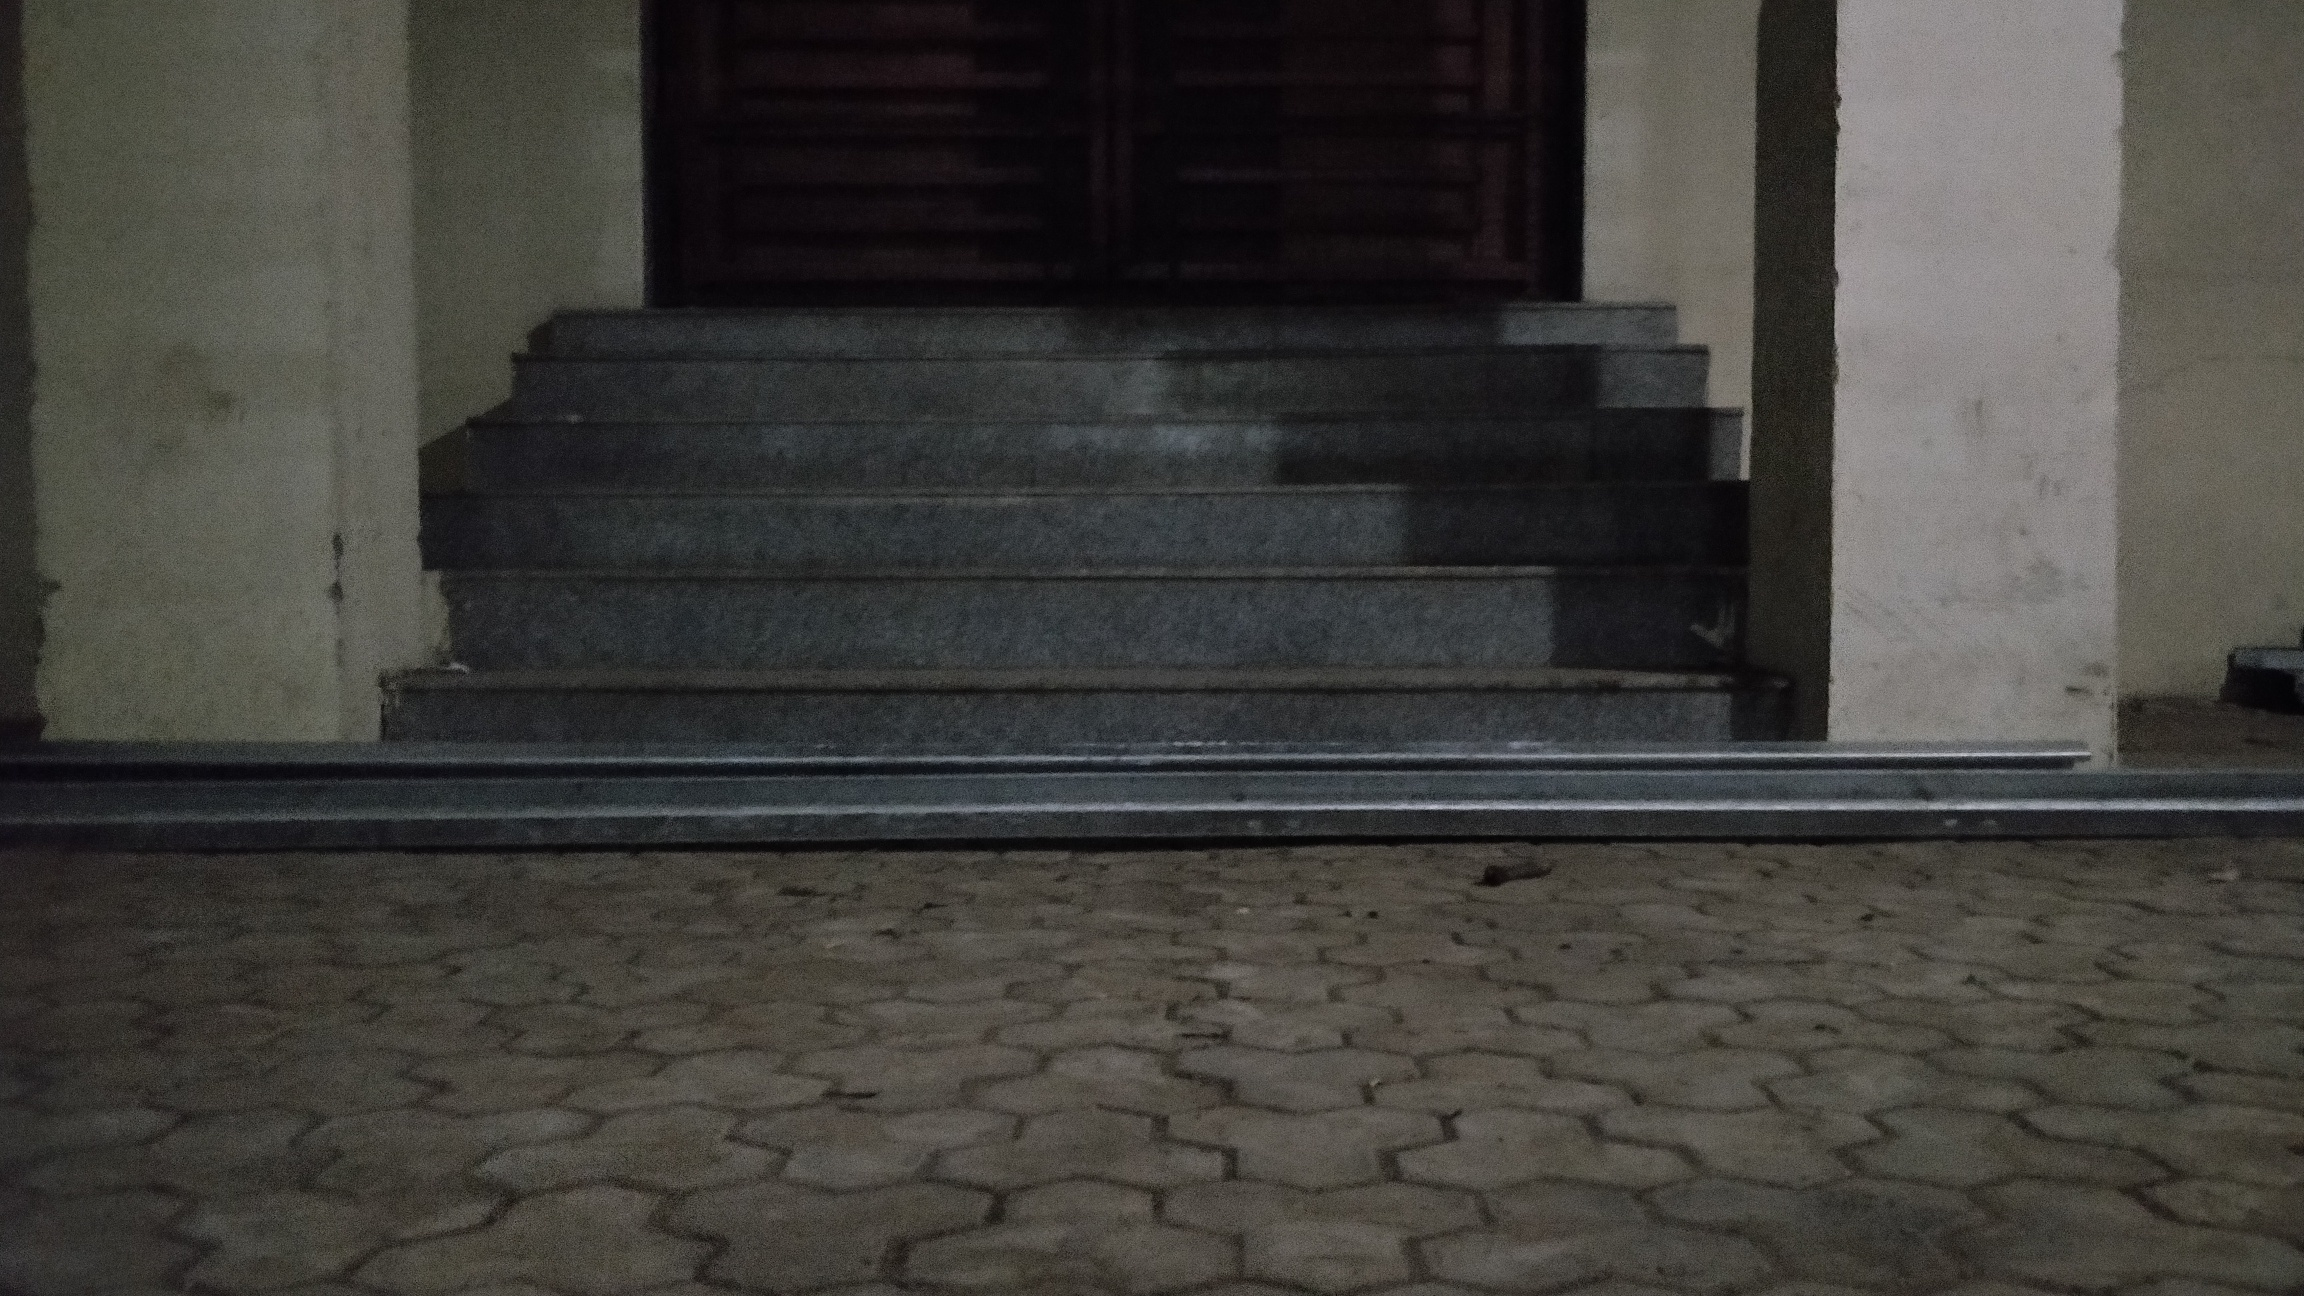stairs_up: (453, 302, 1752, 748)
